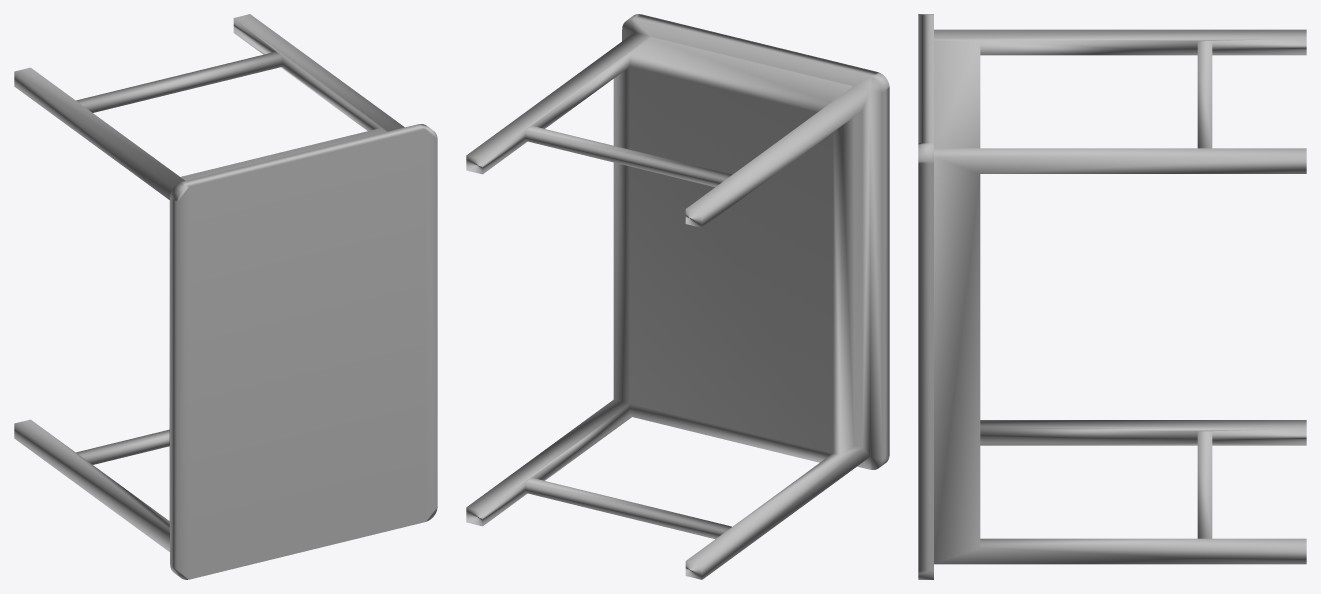
File: desk.dae
3 renders of one model, left to right at view 1: azimuth 30°, elevation 25°; view 2: azimuth 150°, elevation 25°; view 3: azimuth 270°, elevation 25°, orthographic. The views are drawn at different scales.
Visible parts, largest first — view 1: transform1; view 2: transform1; view 3: transform1.
Part boxes in pixels (x1,y1,x2,y2): transform1: (14, 14, 437, 579); transform1: (466, 14, 889, 579); transform1: (918, 14, 1306, 579).
Bounding box in the file's own units: 0.635 × 0.915 × 0.74.
Materials: 1 (1 with a texture image).
